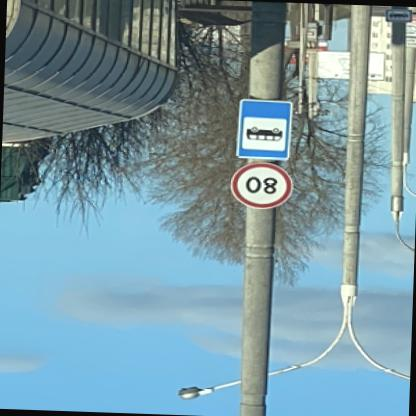speedlimit: (233, 163, 296, 211)
